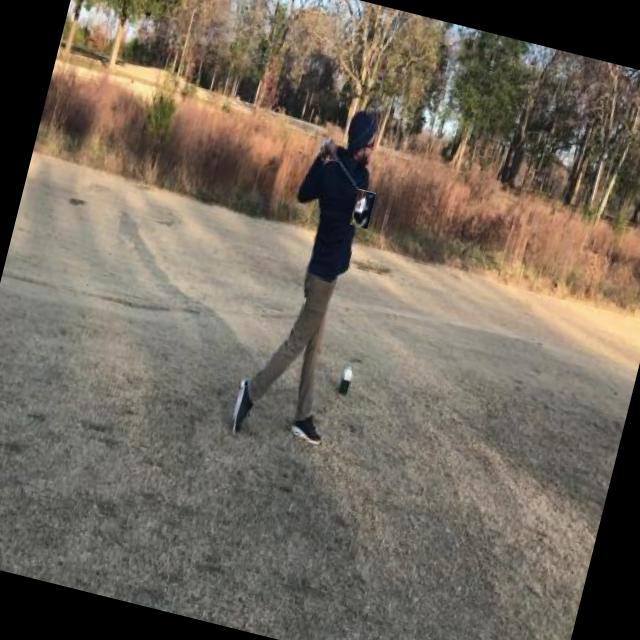club head: (350, 188, 376, 228)
